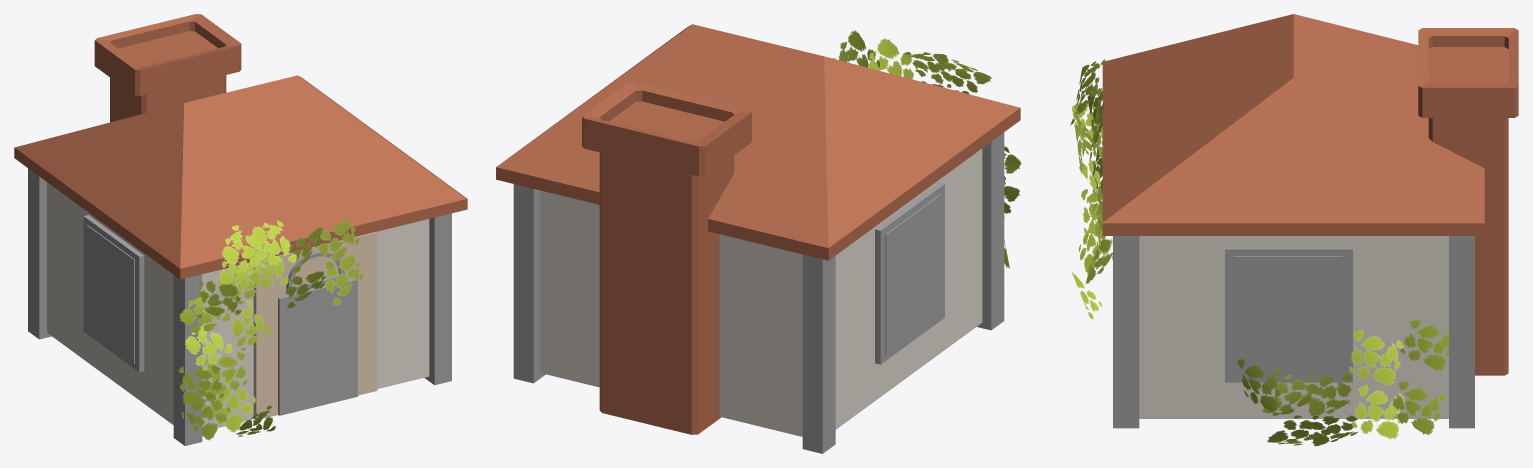
File: SmallHouse1_Low.fbx
3 renders of one model, left to right at view 1: azimuth 30°, elevation 25°; view 2: azimuth 150°, elevation 25°; view 3: azimuth 270°, elevation 25°, orthographic. The views are drawn at different scales.
Parts seen in each view (by area): view 1: Pillar5, polySurface65; view 2: polySurface65, Pillar5; view 3: polySurface65, Pillar5.
Part boxes in pixels (x1=…): Pillar5: x1=28, y1=168, x2=451, y2=445; polySurface65: x1=14, y1=14, x2=467, y2=279; polySurface65: x1=496, y1=24, x2=1020, y2=434; Pillar5: x1=513, y1=30, x2=1021, y2=453; polySurface65: x1=1102, y1=14, x2=1518, y2=375; Pillar5: x1=1070, y1=59, x2=1474, y2=446.
Bounding box in the file's own units: 21.57 × 18.95 × 23.32.
